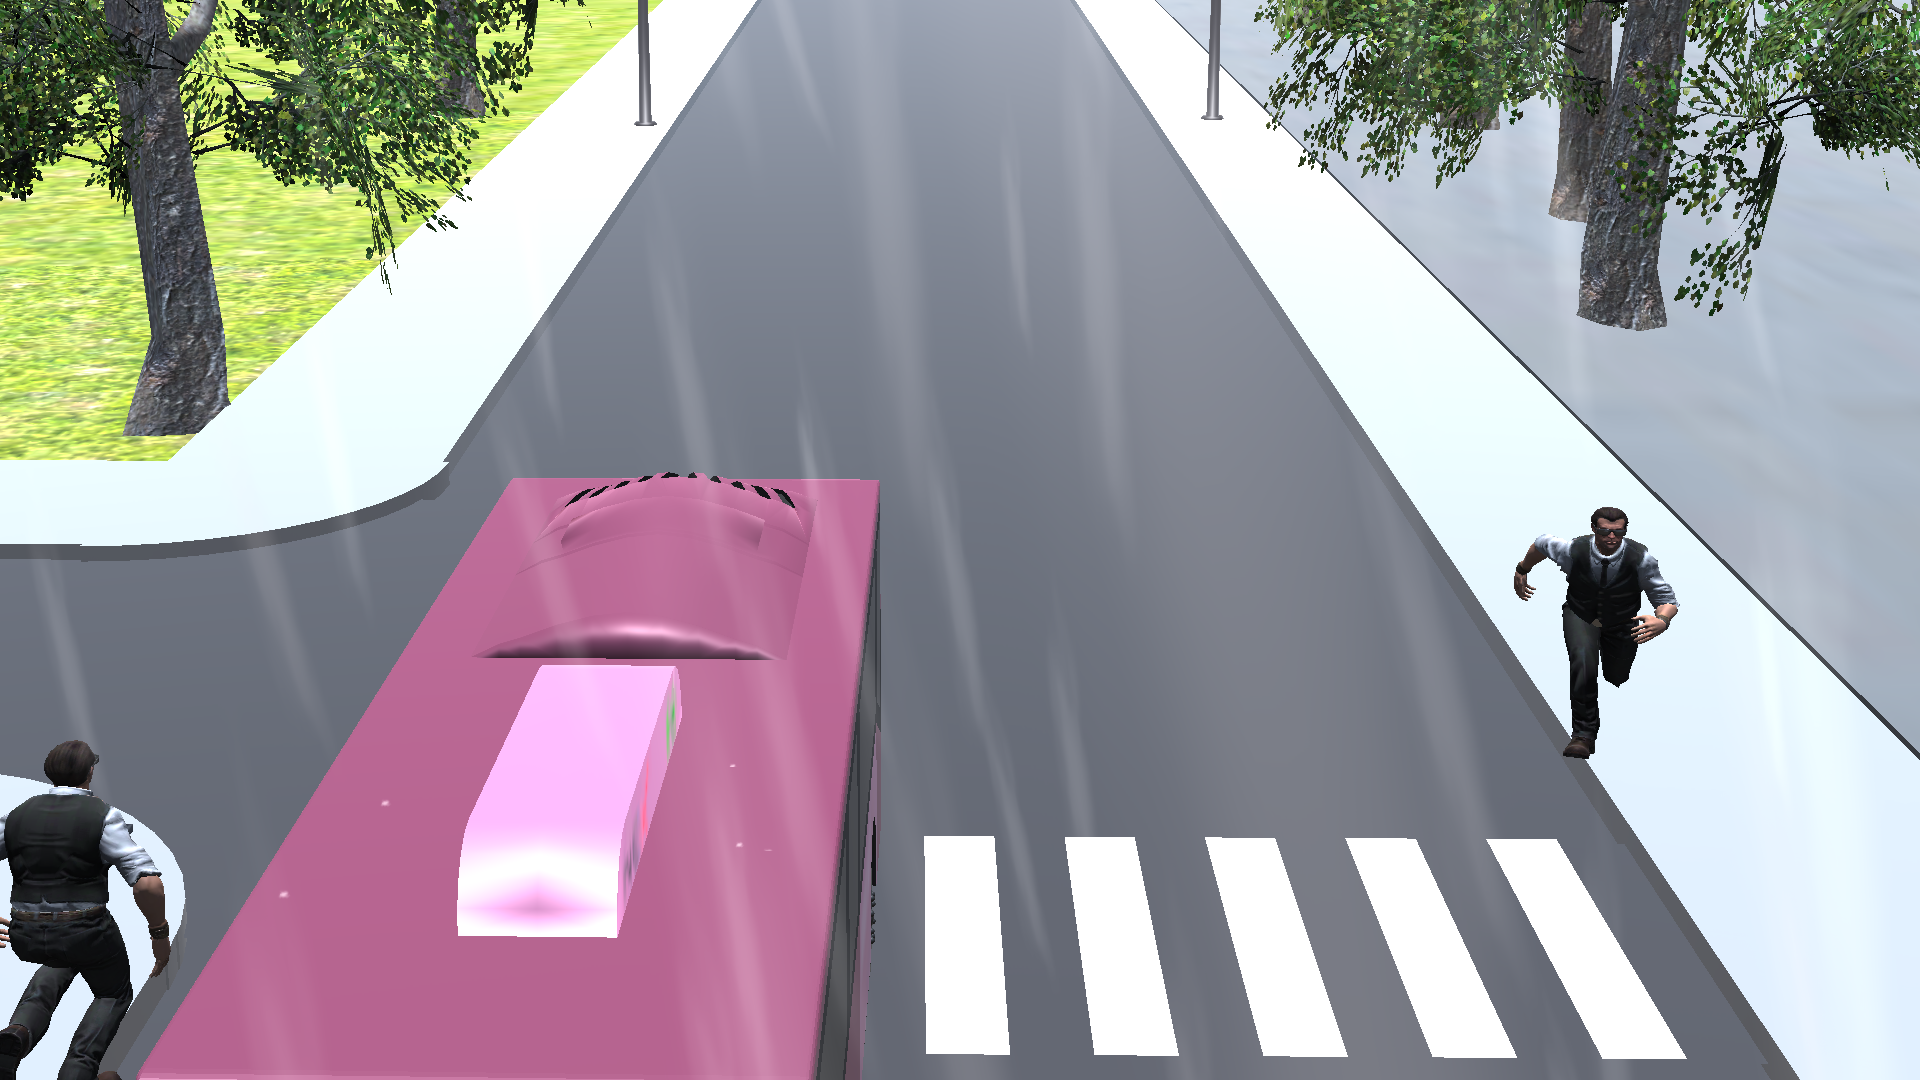pedestrian: (2, 735, 188, 1080), (1511, 494, 1686, 793)
